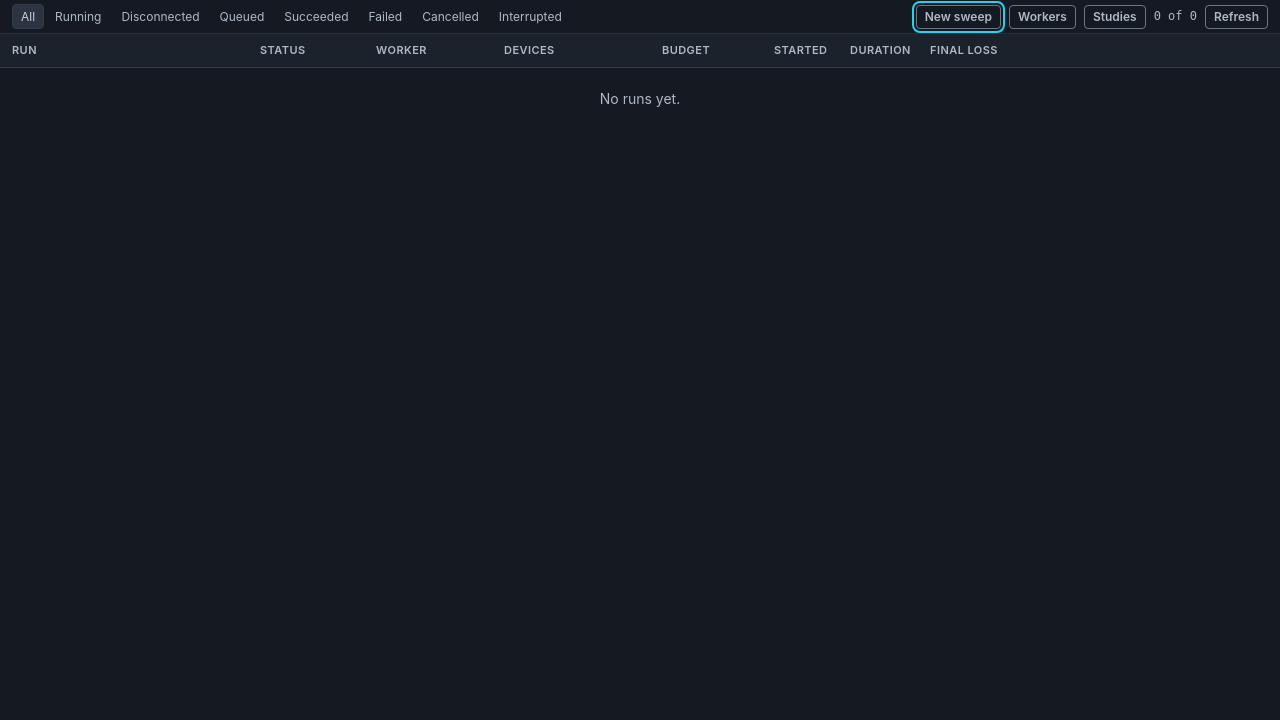
Test: RunsPanel — sweeps › opens a compact New Sweep dialog and restores focus when it closes
Step 1. Click the button "New sweep" → coordinates (958, 16), box x1=916 y1=4 x2=1001 y2=28
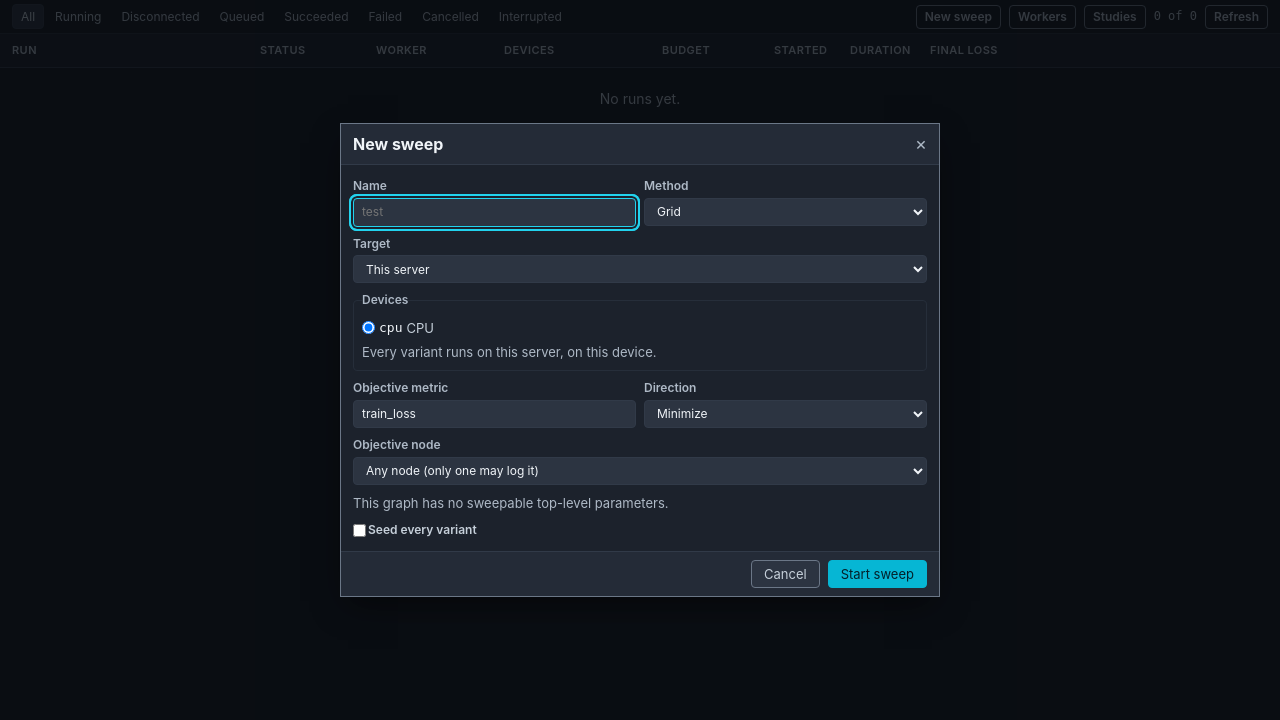
Check: the dialog "New sweep" is shown, box x1=340 y1=122 x2=940 y2=598
Step 2. Click the button named "Close new sweep" → coordinates (921, 144), box x1=915 y1=133 x2=927 y2=154
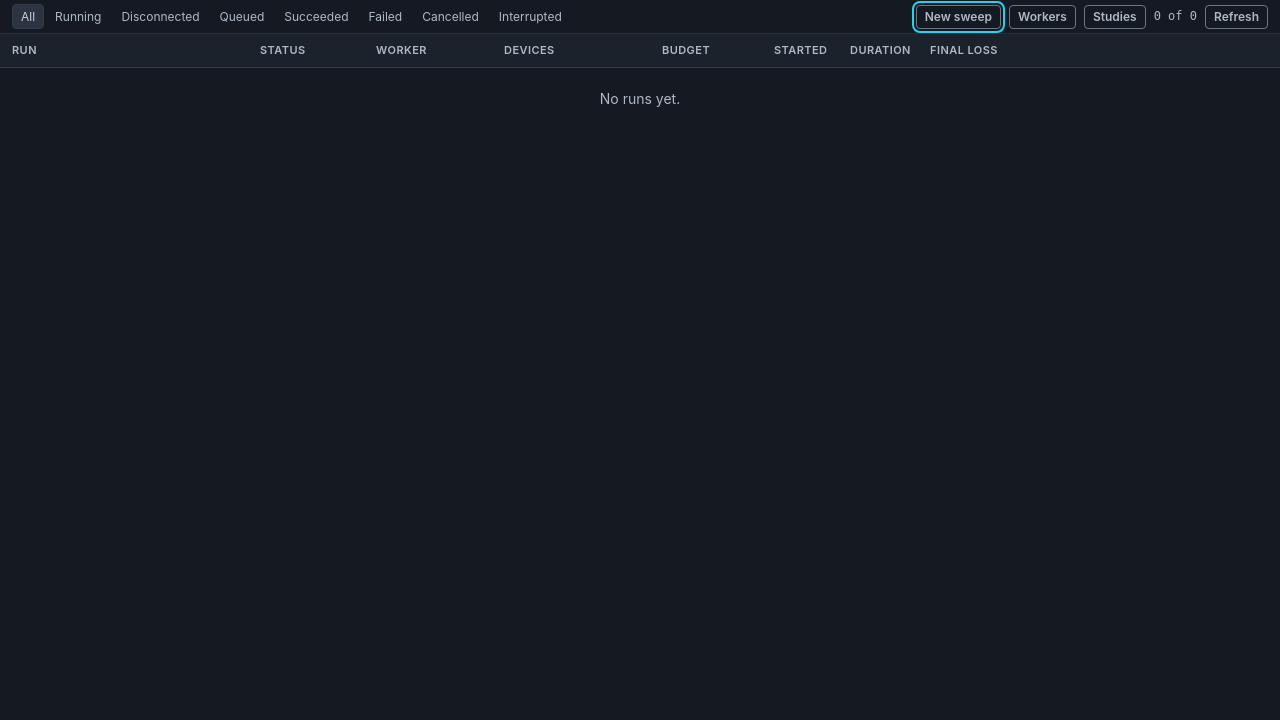
Check: the dialog is gone
